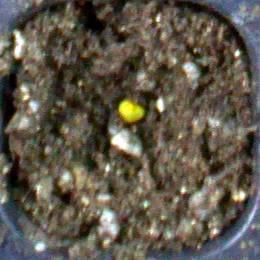pepper seed: (44, 34, 192, 160)
